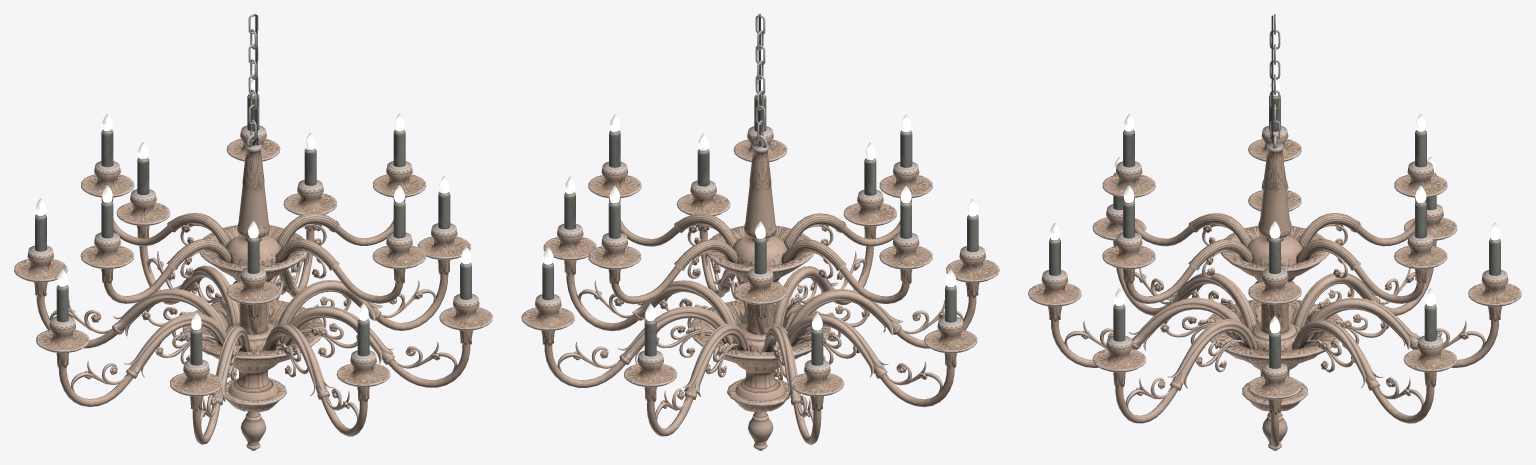
Rendered from Chandelier.fbx.
3 renders of one model, left to right at view 1: azimuth 30°, elevation 25°; view 2: azimuth 150°, elevation 25°; view 3: azimuth 270°, elevation 25°, orthographic.
Parts seen in each view (by area): view 1: Chandelier; view 2: Chandelier; view 3: Chandelier.
Part boxes in pixels (x1,y1,x2,y2): Chandelier: (14, 14, 492, 450); Chandelier: (521, 14, 999, 450); Chandelier: (1028, 14, 1521, 450).
Size of the model in its own units: 4.43 by 4.43 by 4.32.
Materials: 1 (1 with a texture image).
